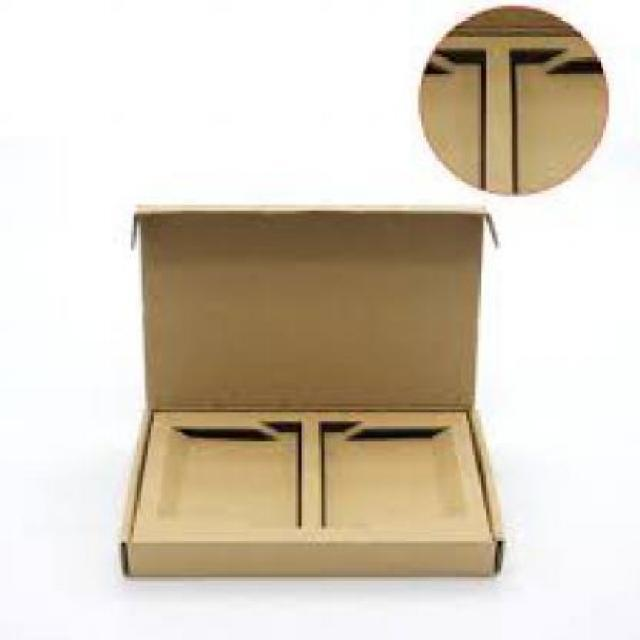box: (90, 189, 579, 640)
